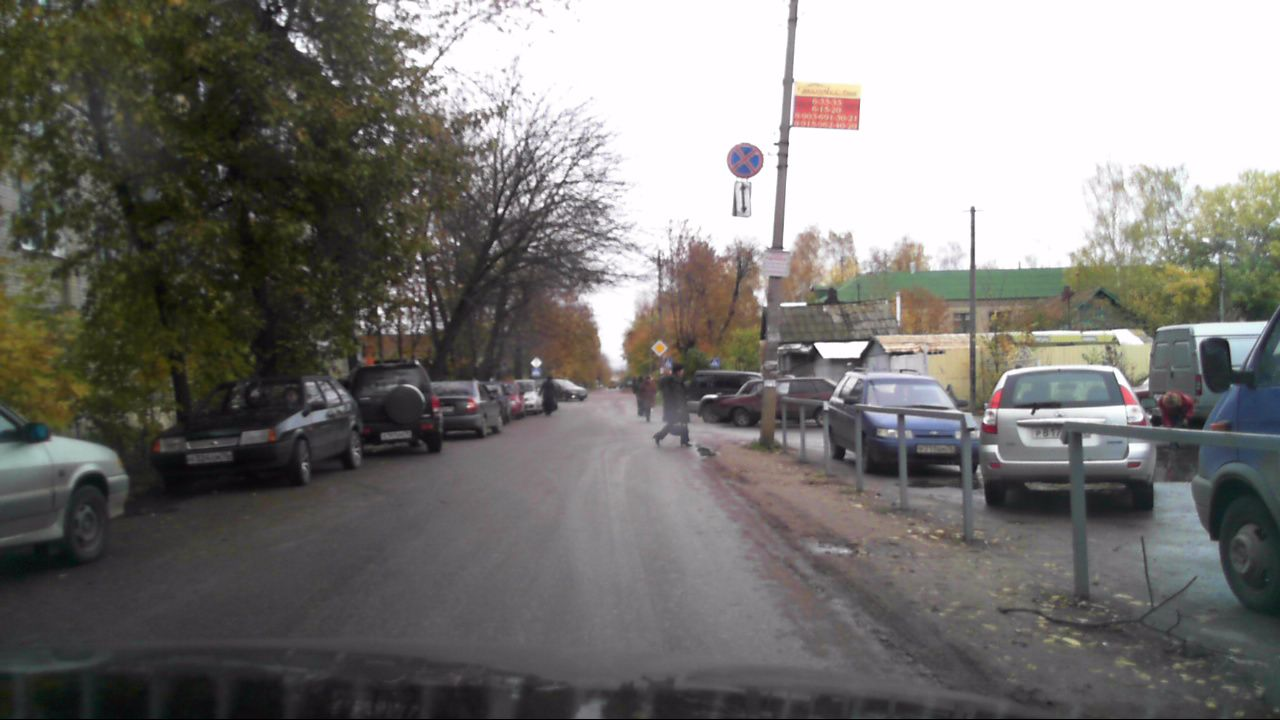No Parking: (726, 142, 763, 179)
